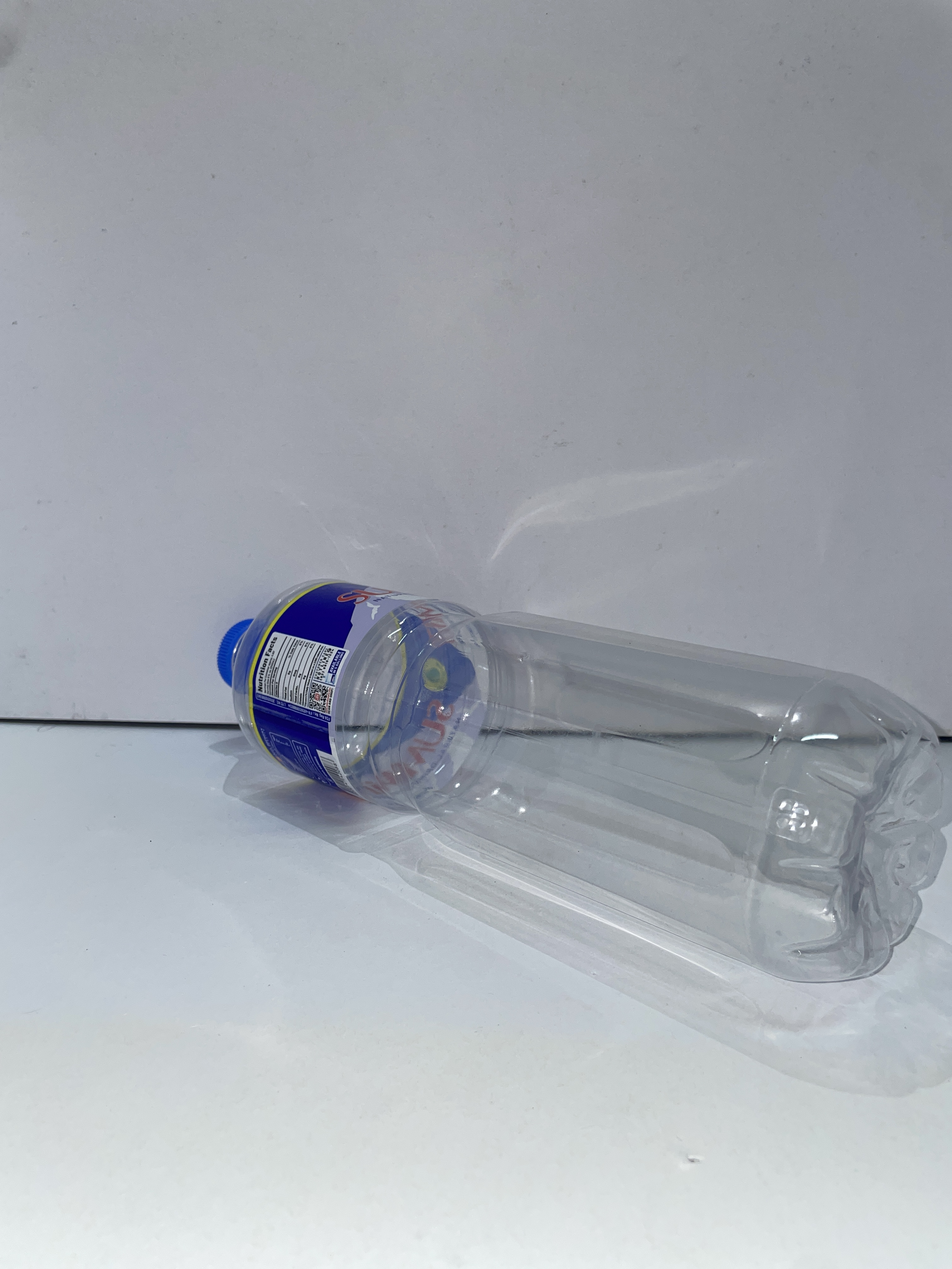Summit 1000ml: (219, 581, 944, 982)
